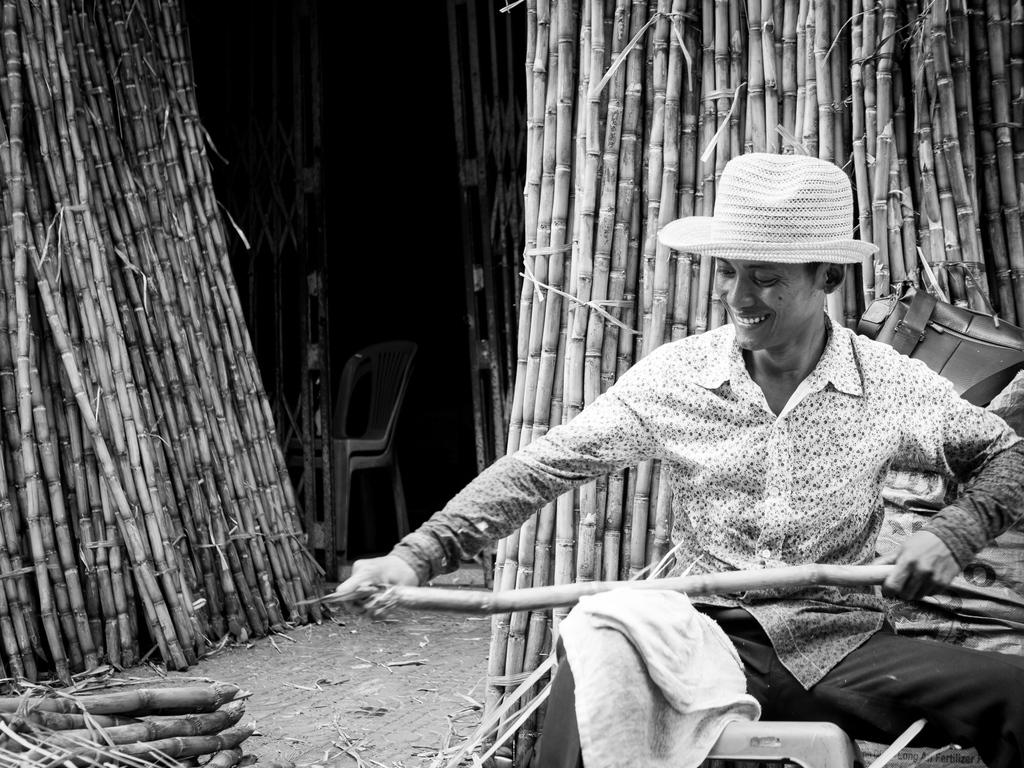Hat: (655, 152, 882, 261)
